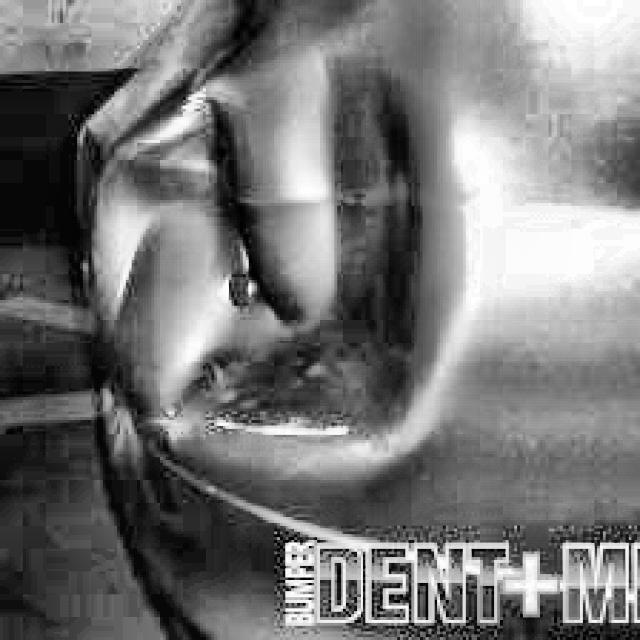bumper_dent: (101, 85, 448, 457)
